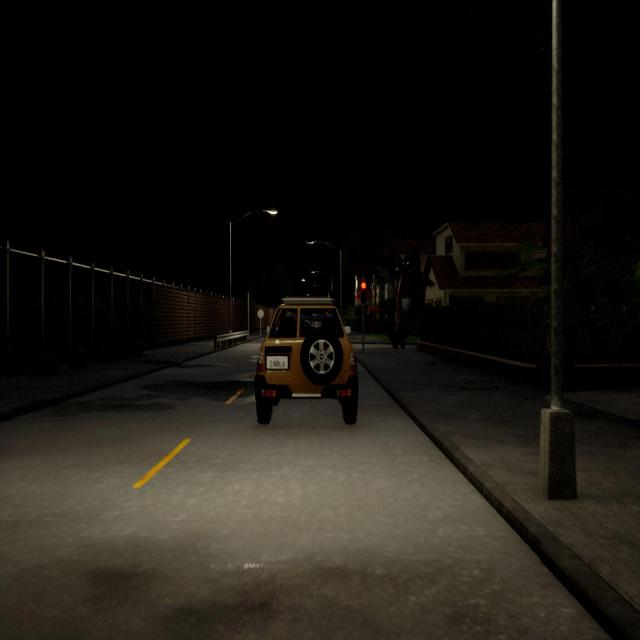Traffic_Signs: (257, 309, 264, 318)
Vehicle: (254, 297, 358, 424)
traffic_light: (360, 280, 367, 304)
